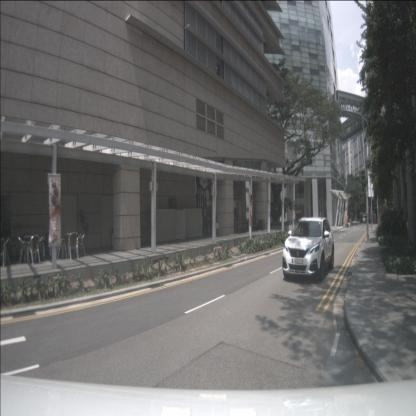human-pedestrian-adult: (233, 201, 240, 234), (305, 208, 309, 228), (360, 218, 362, 226), (359, 218, 361, 226)
vehicle-car: (281, 216, 334, 281), (346, 219, 354, 227)
vehicle-truck: (360, 214, 367, 224)
